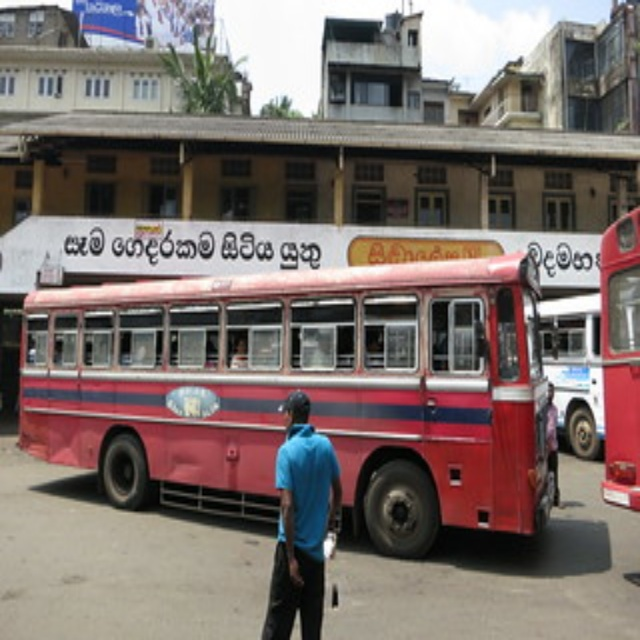Bus: (18, 251, 558, 557)
